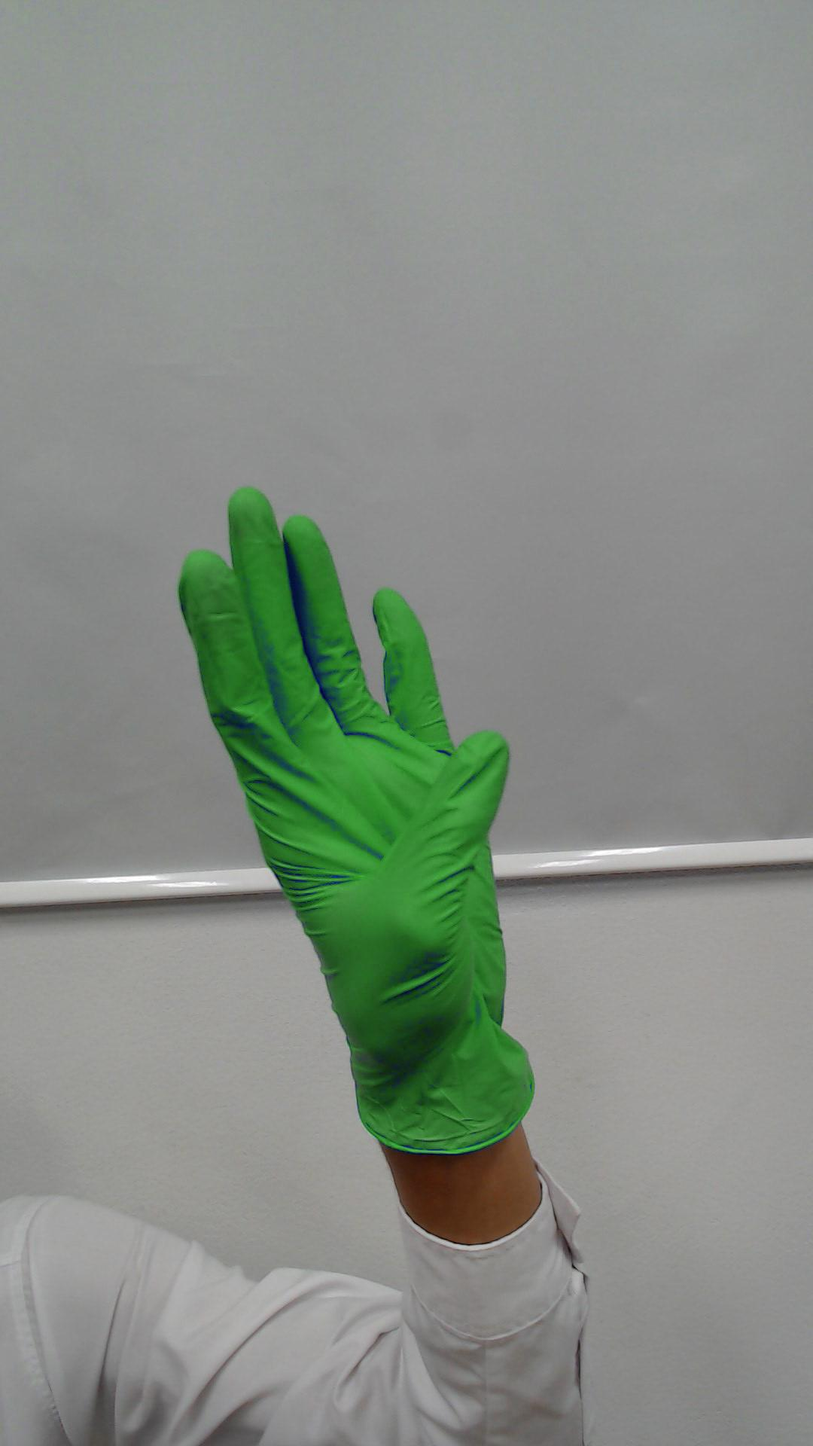gloves: (167, 467, 524, 1013)
